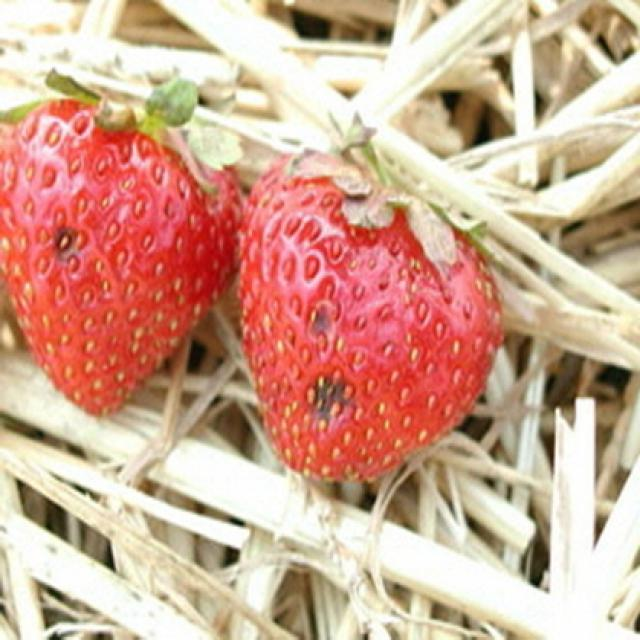Anthracnose Fruit Rot: (296, 305, 356, 428), (43, 222, 85, 262)
